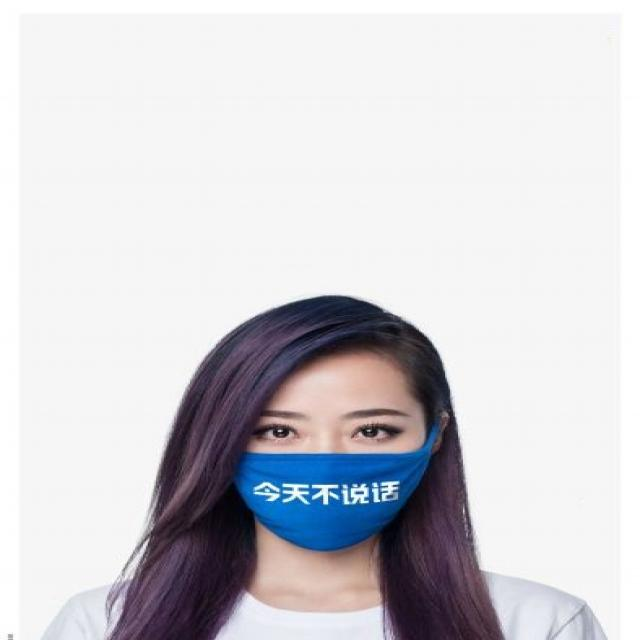mask: (228, 347, 428, 547)
